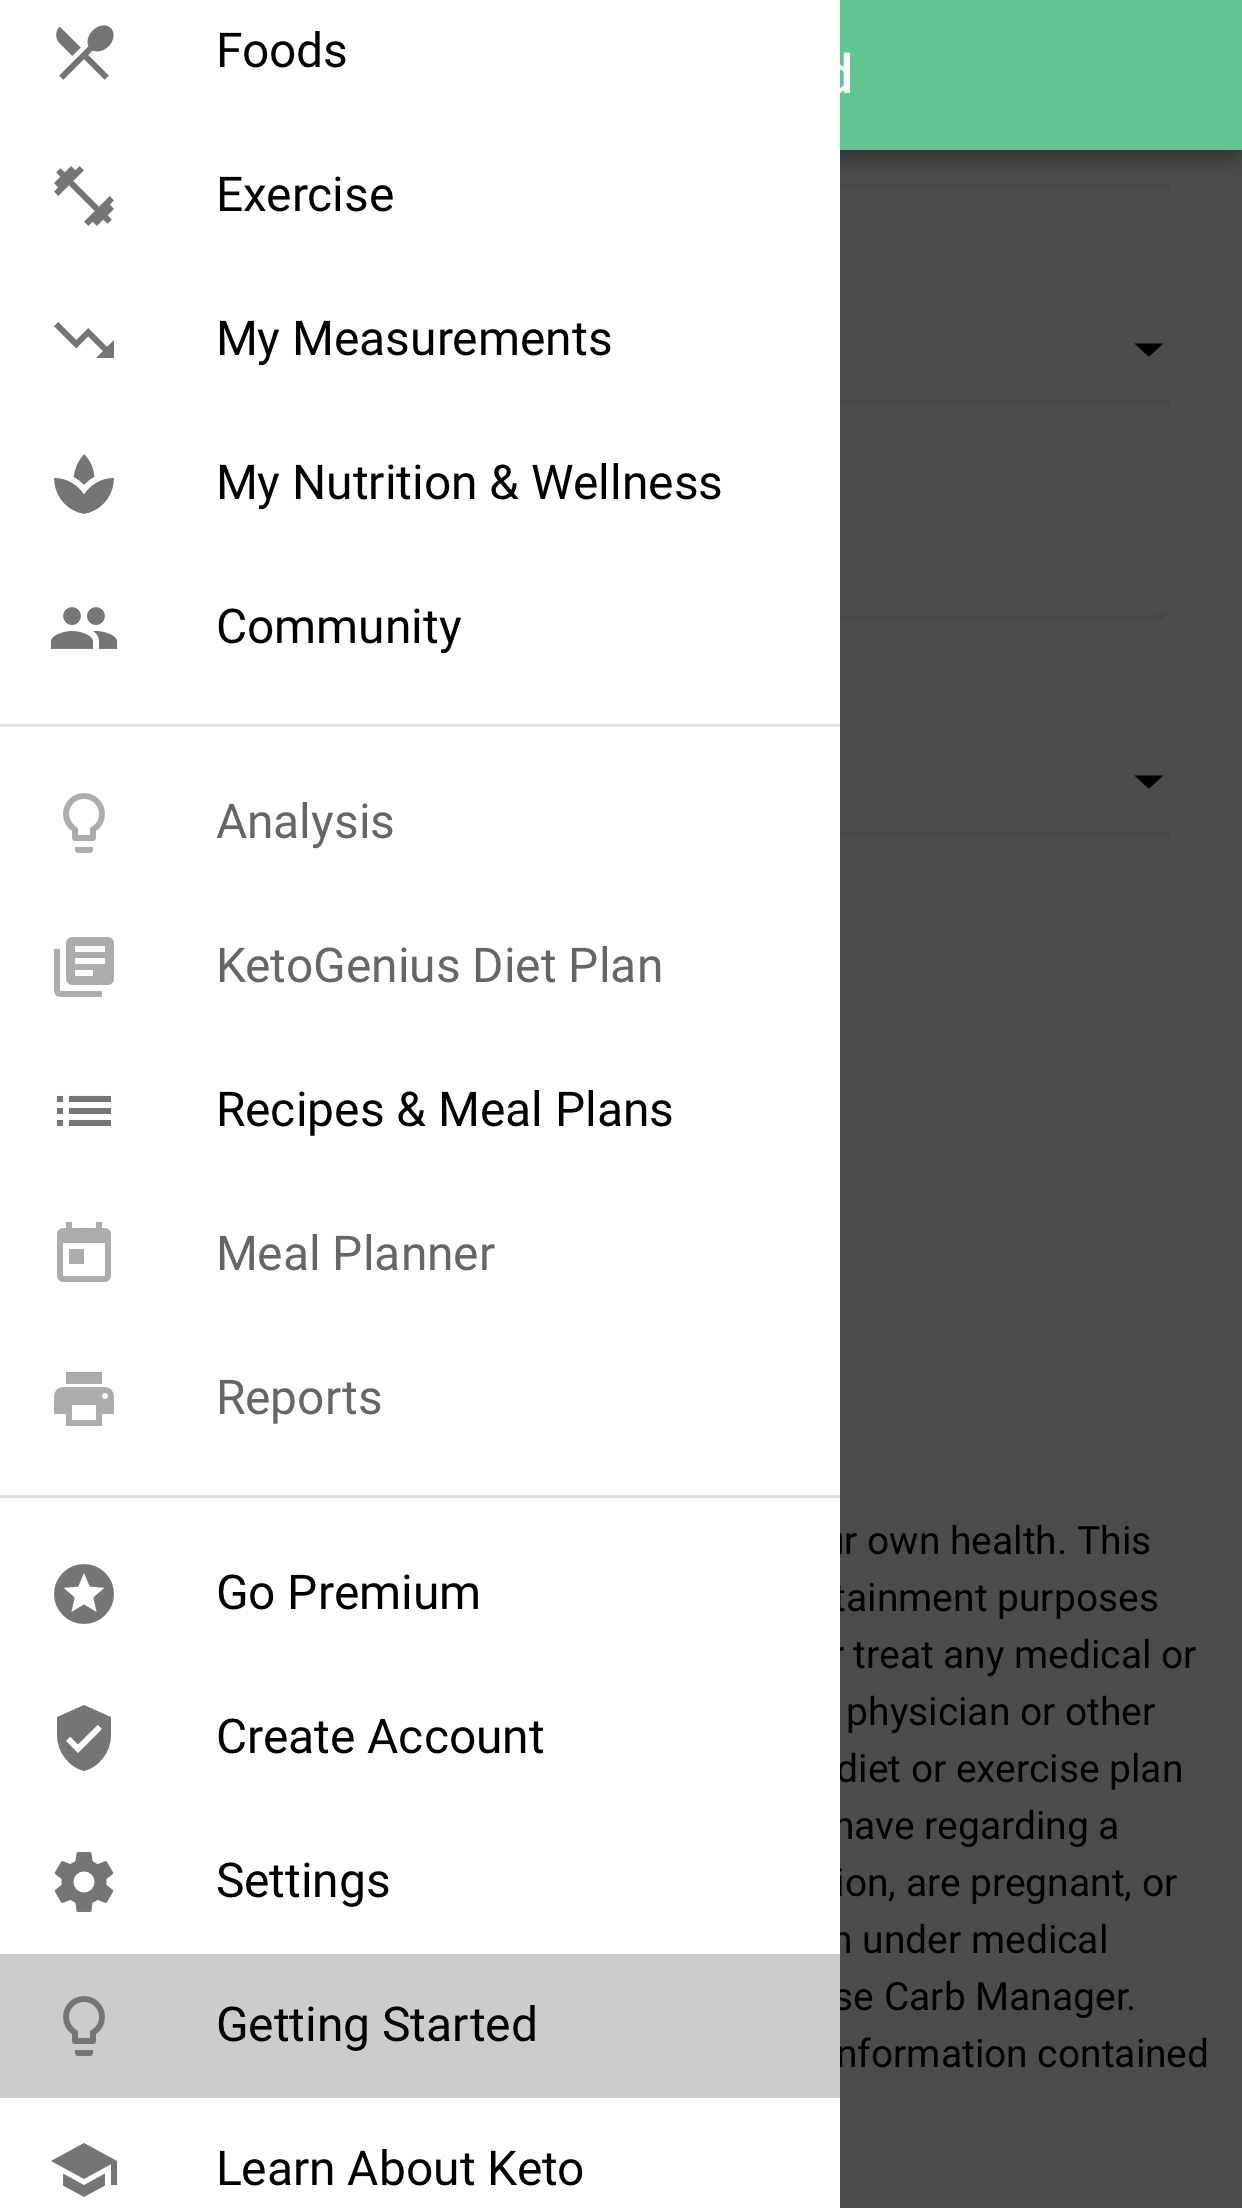Drawer: (2, 2, 842, 2208)
Icon: (55, 1563, 115, 1626), (55, 936, 115, 998), (55, 1852, 115, 1912), (58, 1222, 112, 1283), (52, 607, 118, 651), (55, 321, 115, 359), (58, 1096, 114, 1128)
Image: (55, 453, 115, 516), (55, 165, 115, 227), (52, 2141, 118, 2197), (58, 1705, 114, 1771), (55, 1371, 115, 1427), (56, 24, 115, 80), (64, 792, 108, 854), (64, 1996, 108, 2056)
Text: (220, 463, 722, 511), (218, 1089, 673, 1137), (220, 321, 613, 367), (220, 945, 663, 984), (218, 2003, 535, 2052), (220, 2149, 584, 2187), (218, 1718, 544, 1755), (218, 610, 463, 655), (220, 1234, 496, 1272), (218, 1574, 481, 1611), (217, 802, 394, 851), (218, 1861, 390, 1908), (220, 1378, 382, 1425), (220, 177, 394, 214), (220, 32, 347, 70)
